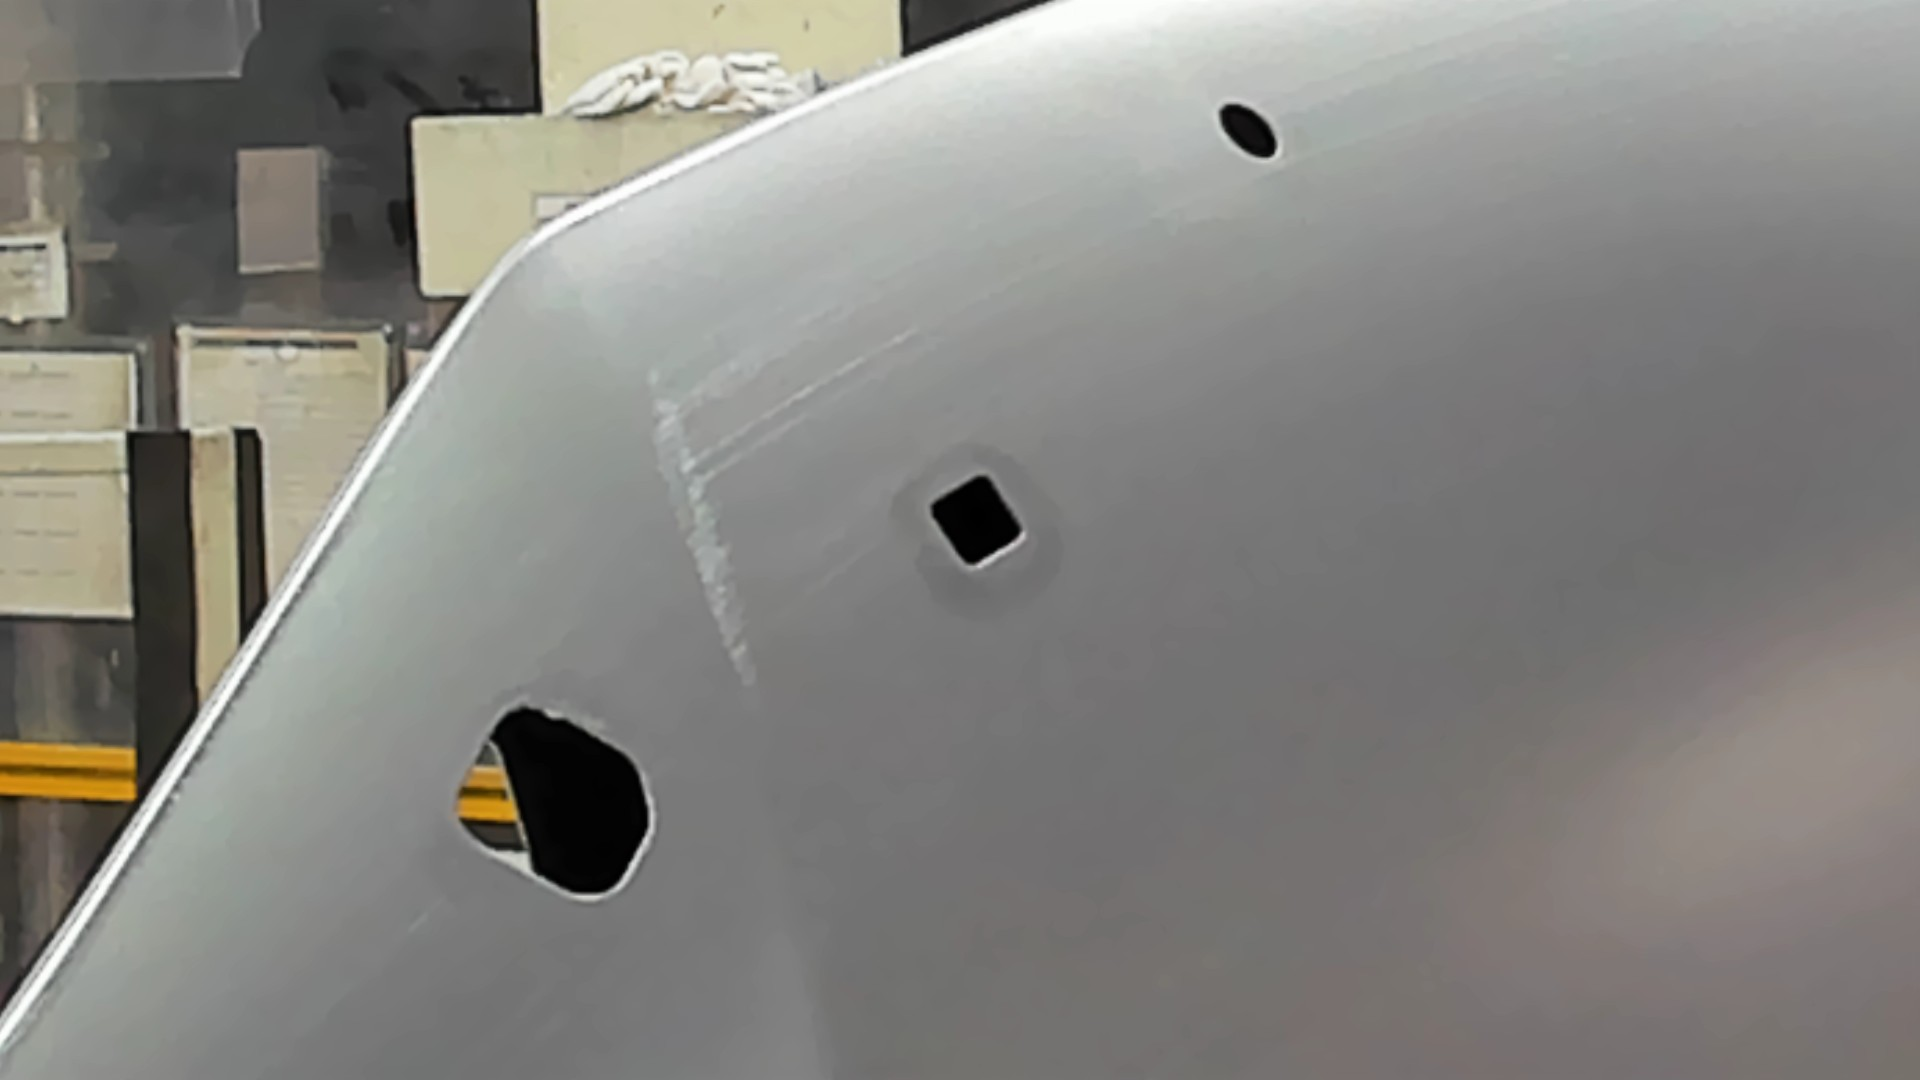chico: (1215, 94, 1282, 167)
grande: (446, 695, 655, 911)
mediano: (924, 469, 1033, 574)
